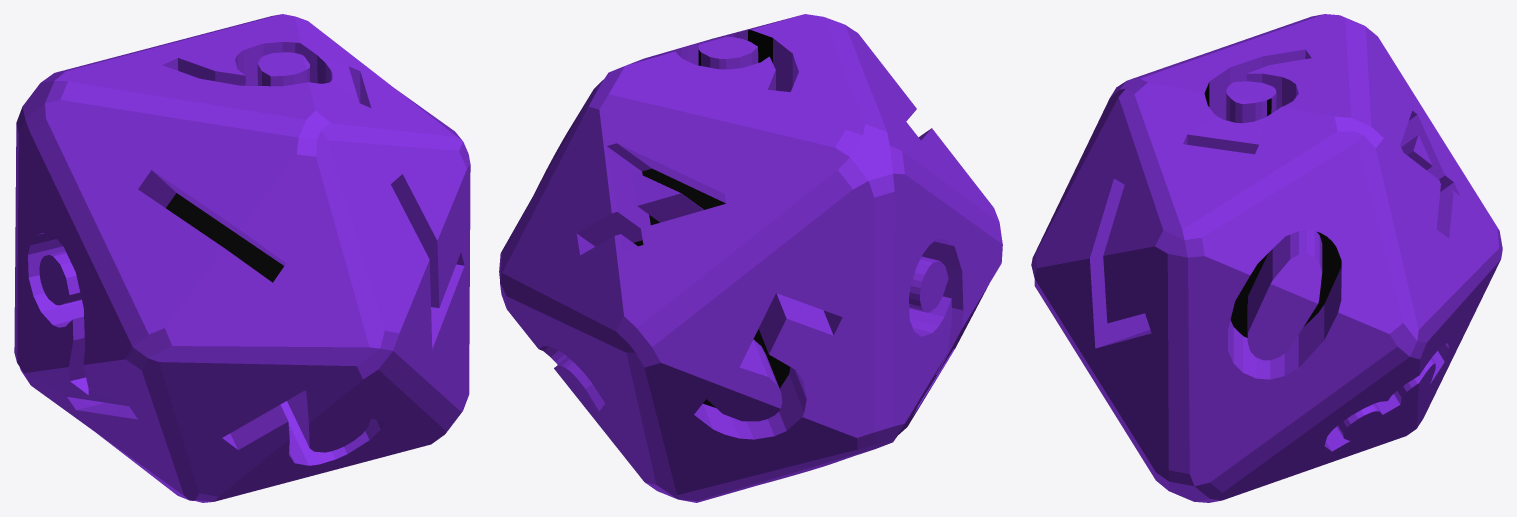
3 views of the same model, side by side, from view 1: azimuth 30°, elevation 25°; view 2: azimuth 150°, elevation 25°; view 3: azimuth 270°, elevation 25° (orthographic). The views are drawn at different scales.
Parts seen in each view (by area): view 1: D10; view 2: D10; view 3: D10.
Part boxes in pixels (x1=…): D10: x1=14, y1=14, x2=470, y2=502; D10: x1=499, y1=14, x2=1002, y2=502; D10: x1=1031, y1=14, x2=1502, y2=502.
Bounding box in the file's own units: 21.25 × 21.14 × 24.8.
